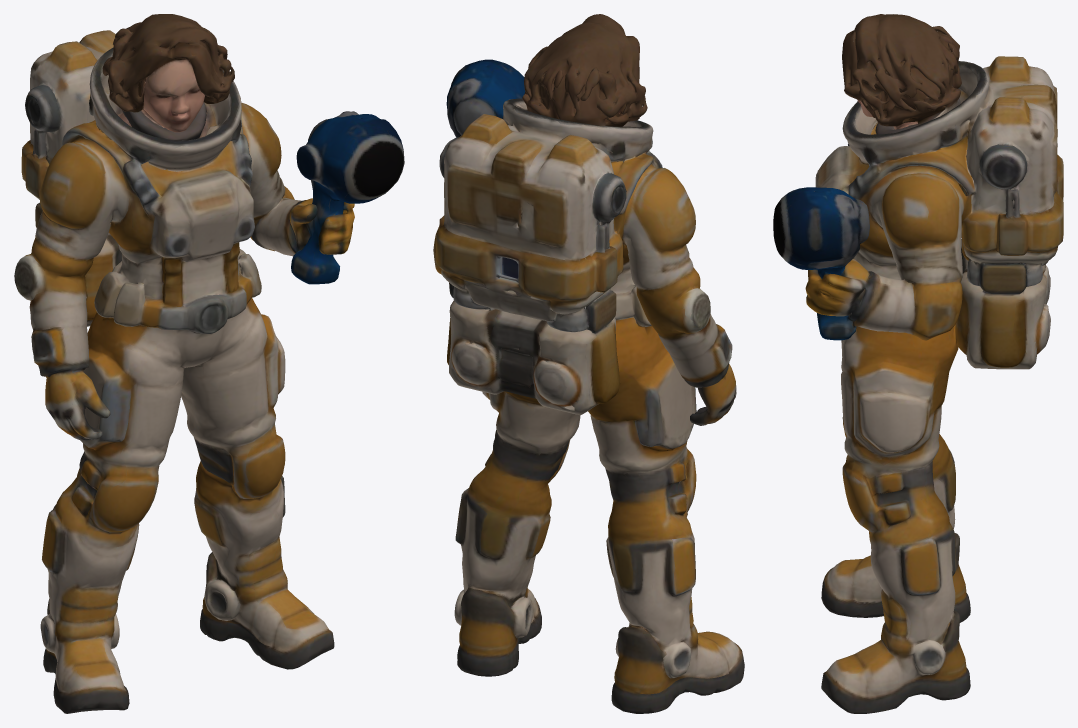
The model's file is generation_pilot_1.glb.
3 views of the same model, side by side, from view 1: azimuth 30°, elevation 25°; view 2: azimuth 150°, elevation 25°; view 3: azimuth 270°, elevation 25° (orthographic). The views are drawn at different scales.
Visible parts, largest first — view 1: geometry_0; view 2: geometry_0; view 3: geometry_0.
Boxes of the visible parts, <box> form: geometry_0: <box>14,14,404,713</box>; geometry_0: <box>433,14,744,713</box>; geometry_0: <box>773,14,1063,713</box>.
Bounding box in the file's own units: 0.5192 × 1 × 0.4186.
1 material, 1 textured.
